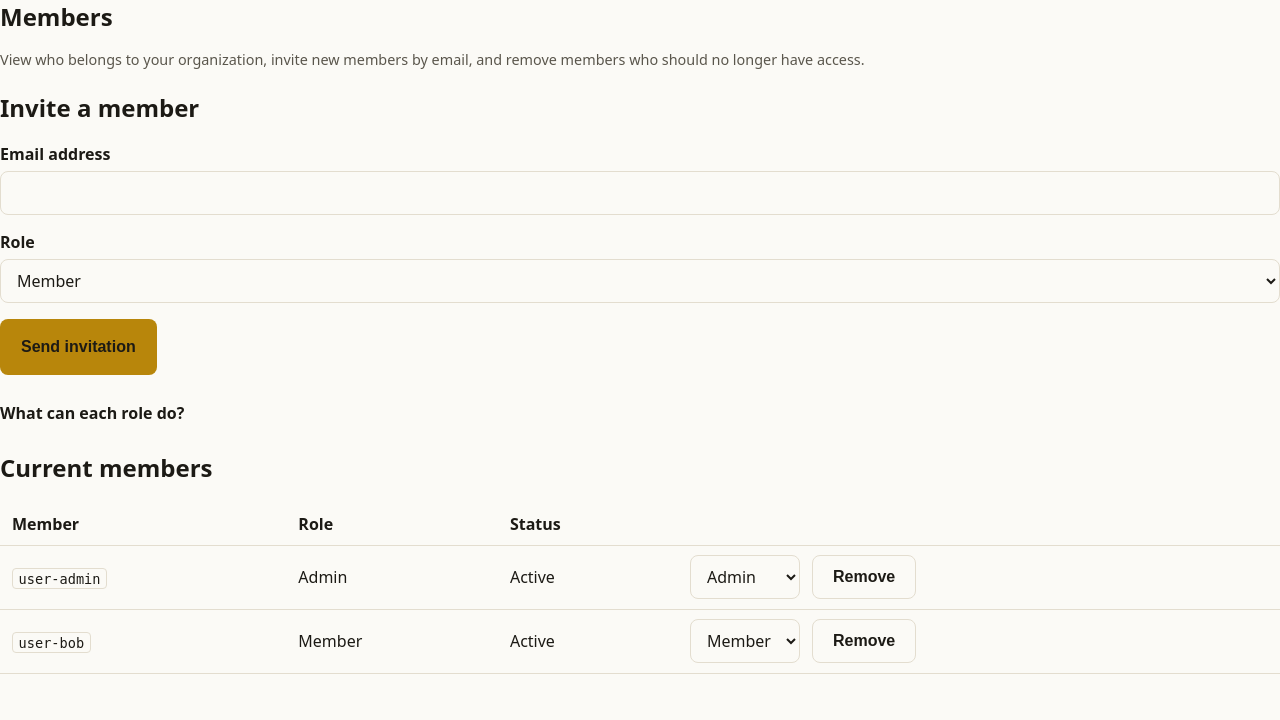
Test case: MemberManagement — change role (NFR-ROL-1, D-3) › surfaces the last-admin guard (409) clearly and keeps the dialog open (D-3)
This screenshot has width=1280, height=720.
Check: the text "user-admin" is shown, box left=12, top=568, right=107, bottom=589
Demote the only admin → the server's last-admin guard rejects it.
Select "Member" in the dropdown named "change role for member user-admin" in the row of "user-admin" at [745, 577], box left=690, top=555, right=800, bottom=599
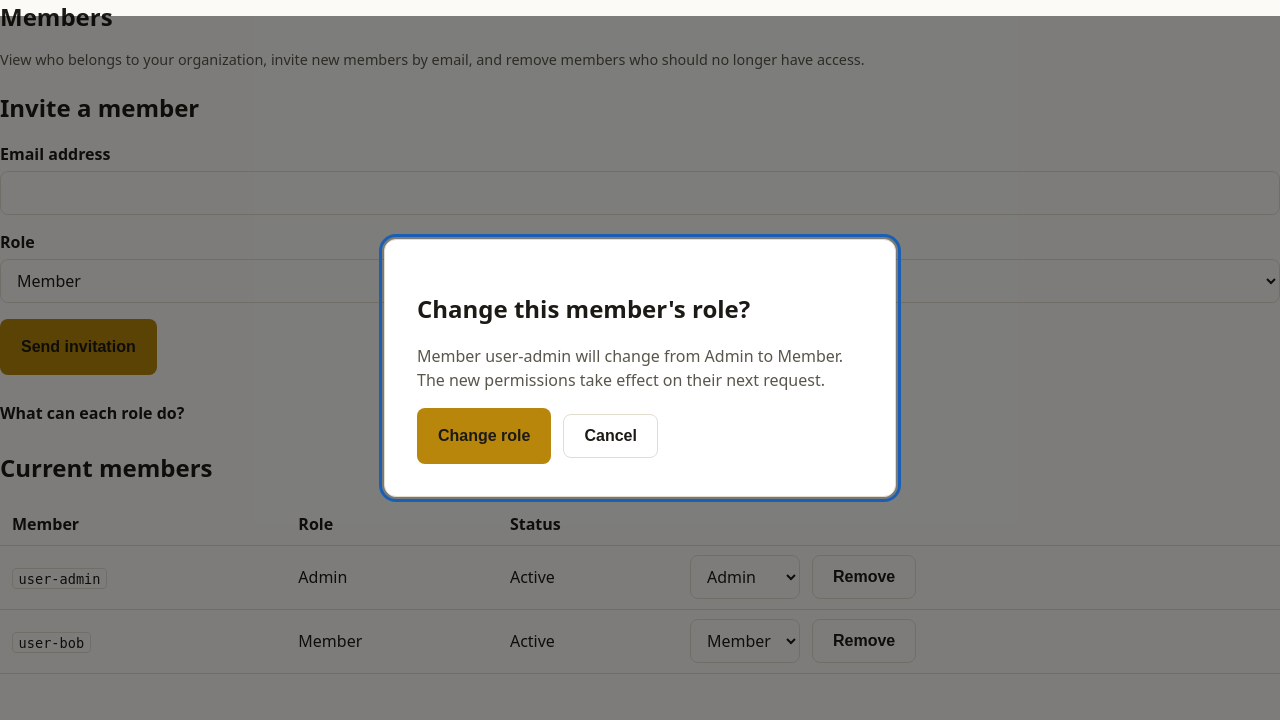
Click the button "Change role".
click(484, 436)  # box left=417, top=408, right=552, bottom=464
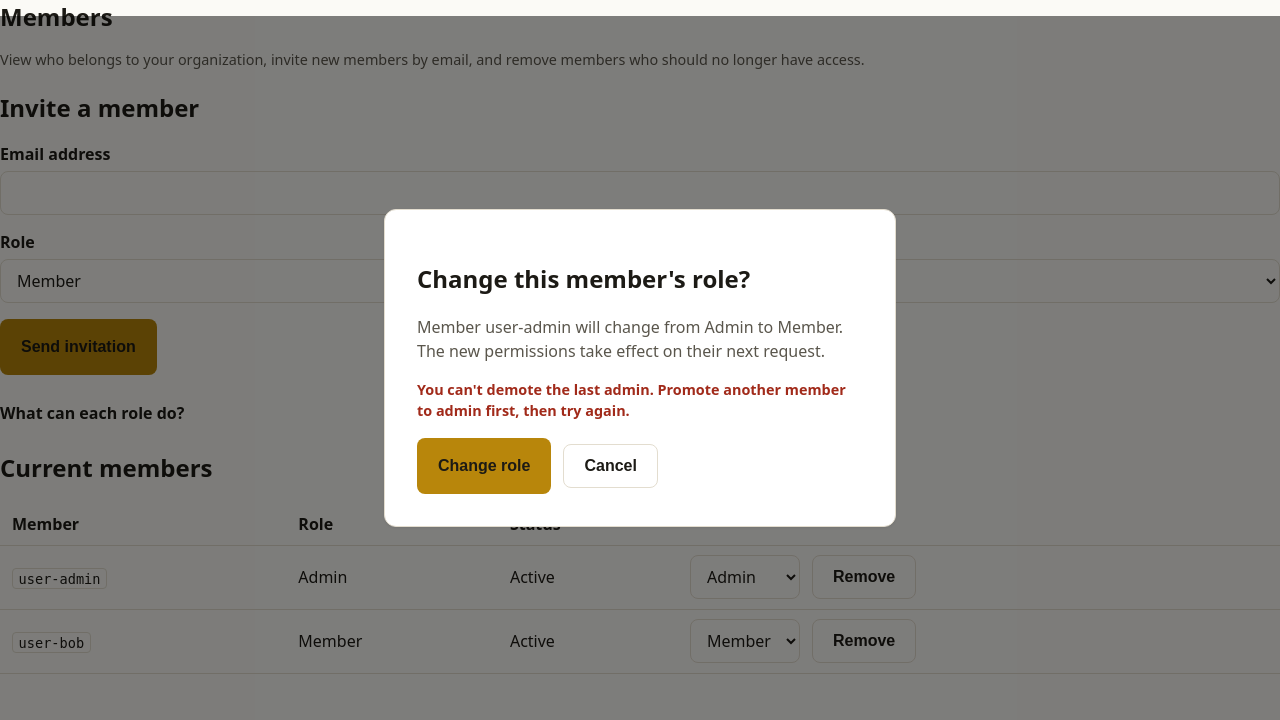
Check: the dialog is shown, box left=384, top=209, right=896, bottom=527
Check: the text "can't demote the last admin" is shown, box left=417, top=380, right=846, bottom=420
